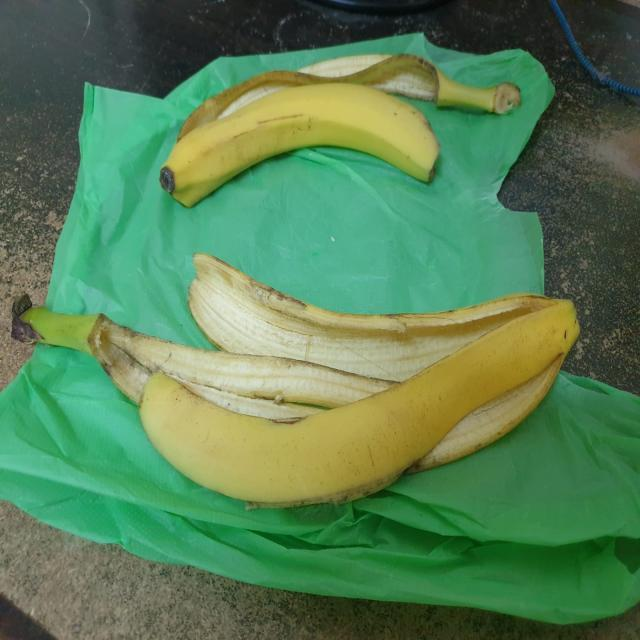banana-peel: (12, 252, 582, 516), (158, 48, 521, 208)
